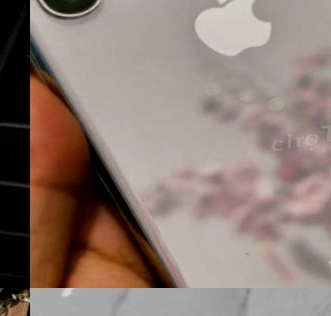scratch: (232, 236, 272, 274)
